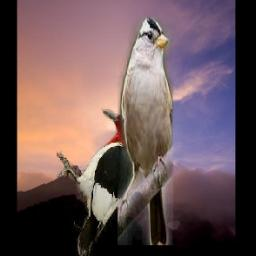Sparrow: (118, 19, 173, 246)
Woodpecker: (56, 108, 147, 256)
